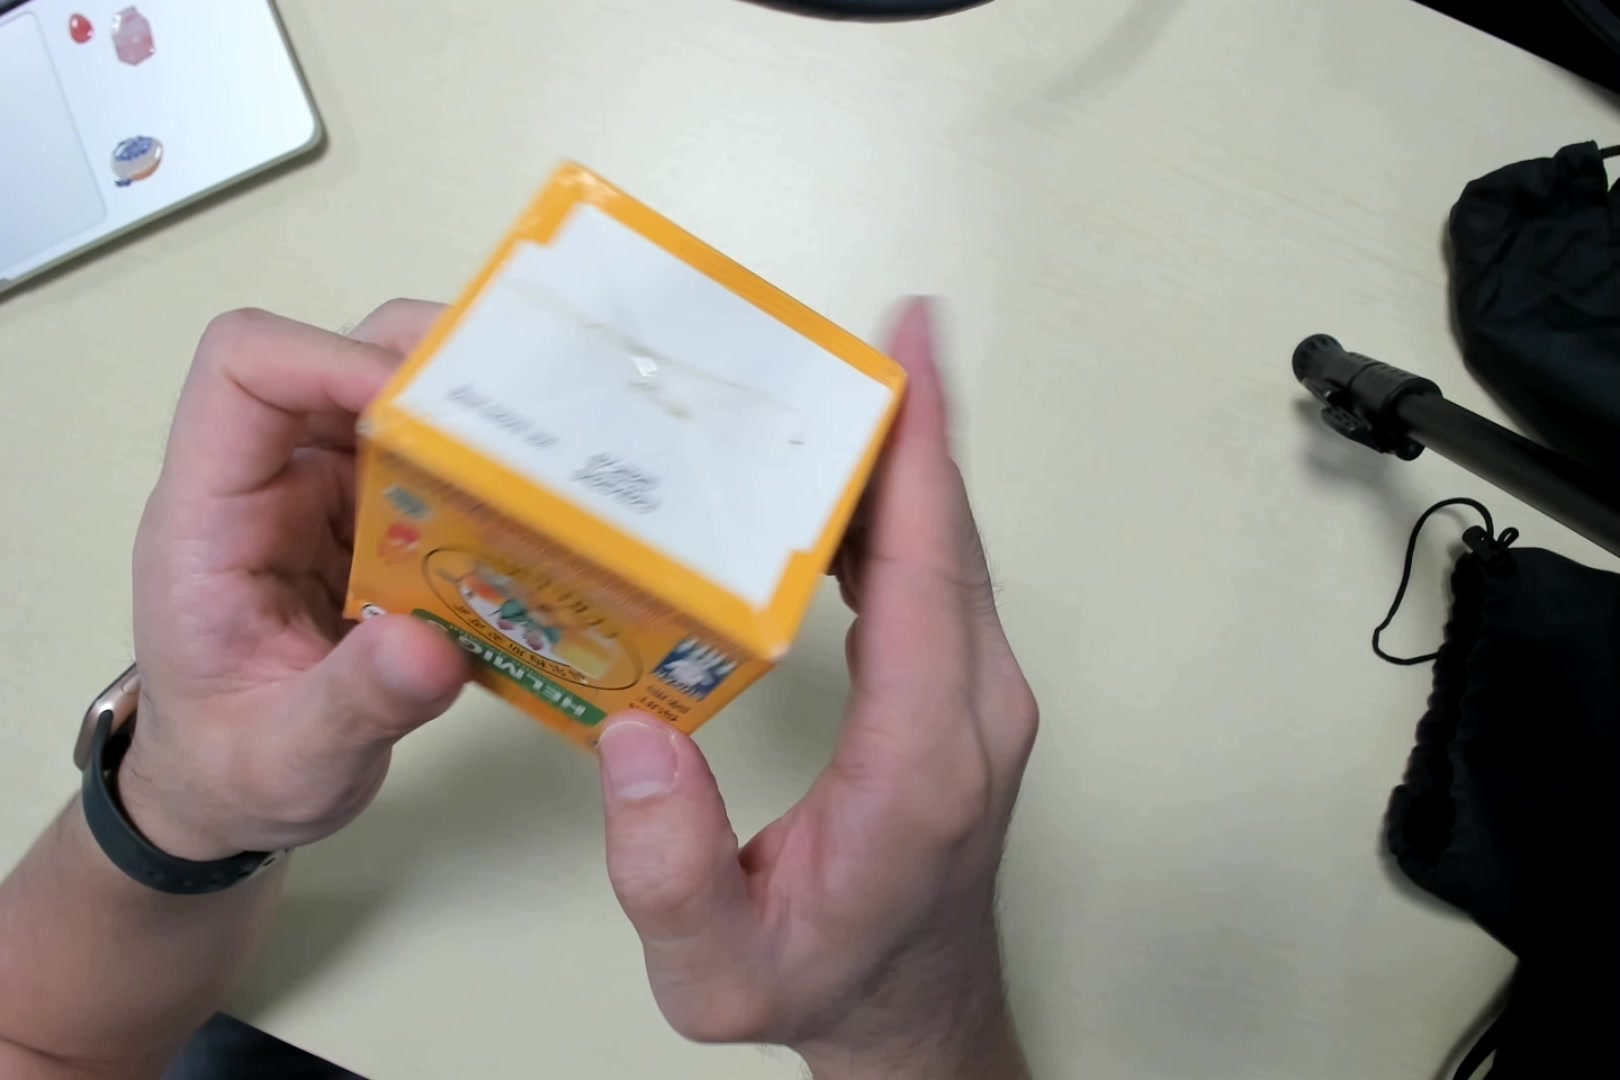OtherHotBeverages(Powder)_0-99g_Halal_NonHealthy: (335, 175, 905, 774)
